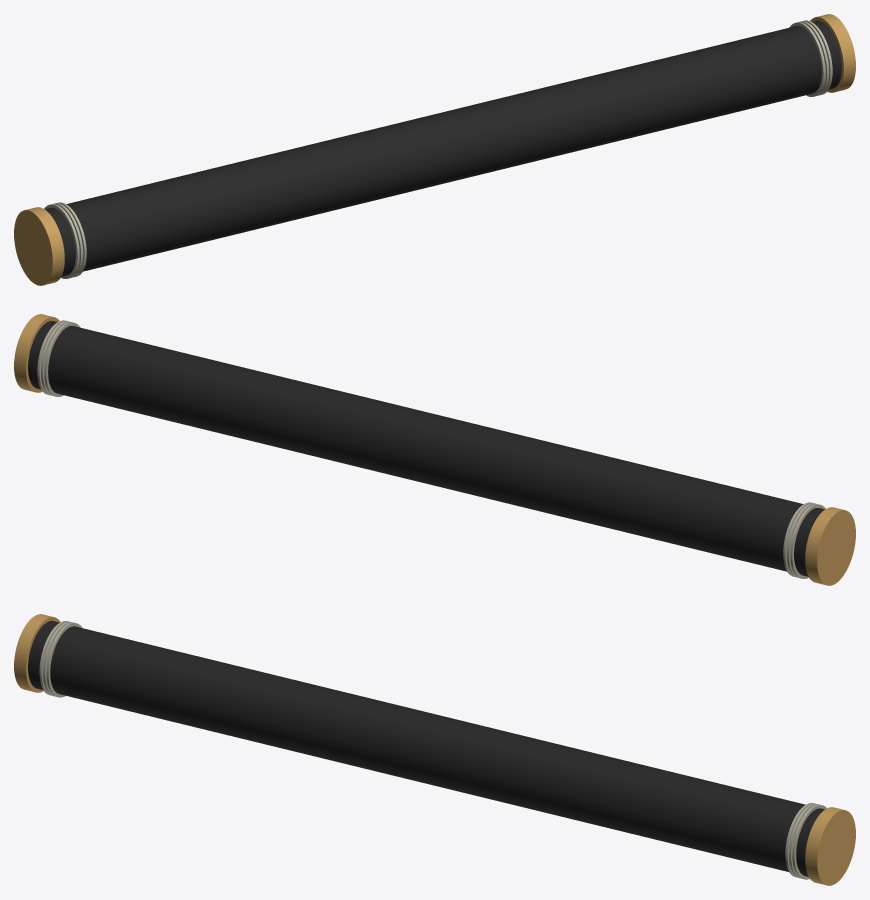
Rendered from Continental.glb.
3 renders of one model, top to bottom at view 1: azimuth 30°, elevation 25°; view 2: azimuth 150°, elevation 25°; view 3: azimuth 330°, elevation 25°, orthographic.
Parts seen in each view (by area): view 1: Rubber platen, Drum shoulder (×2); view 2: Rubber platen, Drum shoulder (×2); view 3: Rubber platen, Drum shoulder (×2).
Part boxes in pixels (<box>): Rubber platen: <box>45,21,841,276</box>; Drum shoulder (×2): <box>14,14,855,285</box>; Rubber platen: <box>28,321,824,576</box>; Drum shoulder (×2): <box>14,314,855,585</box>; Rubber platen: <box>28,621,824,876</box>; Drum shoulder (×2): <box>14,614,855,885</box>.
Bounding box in the file's own units: 6 × 0.502 × 0.502.
